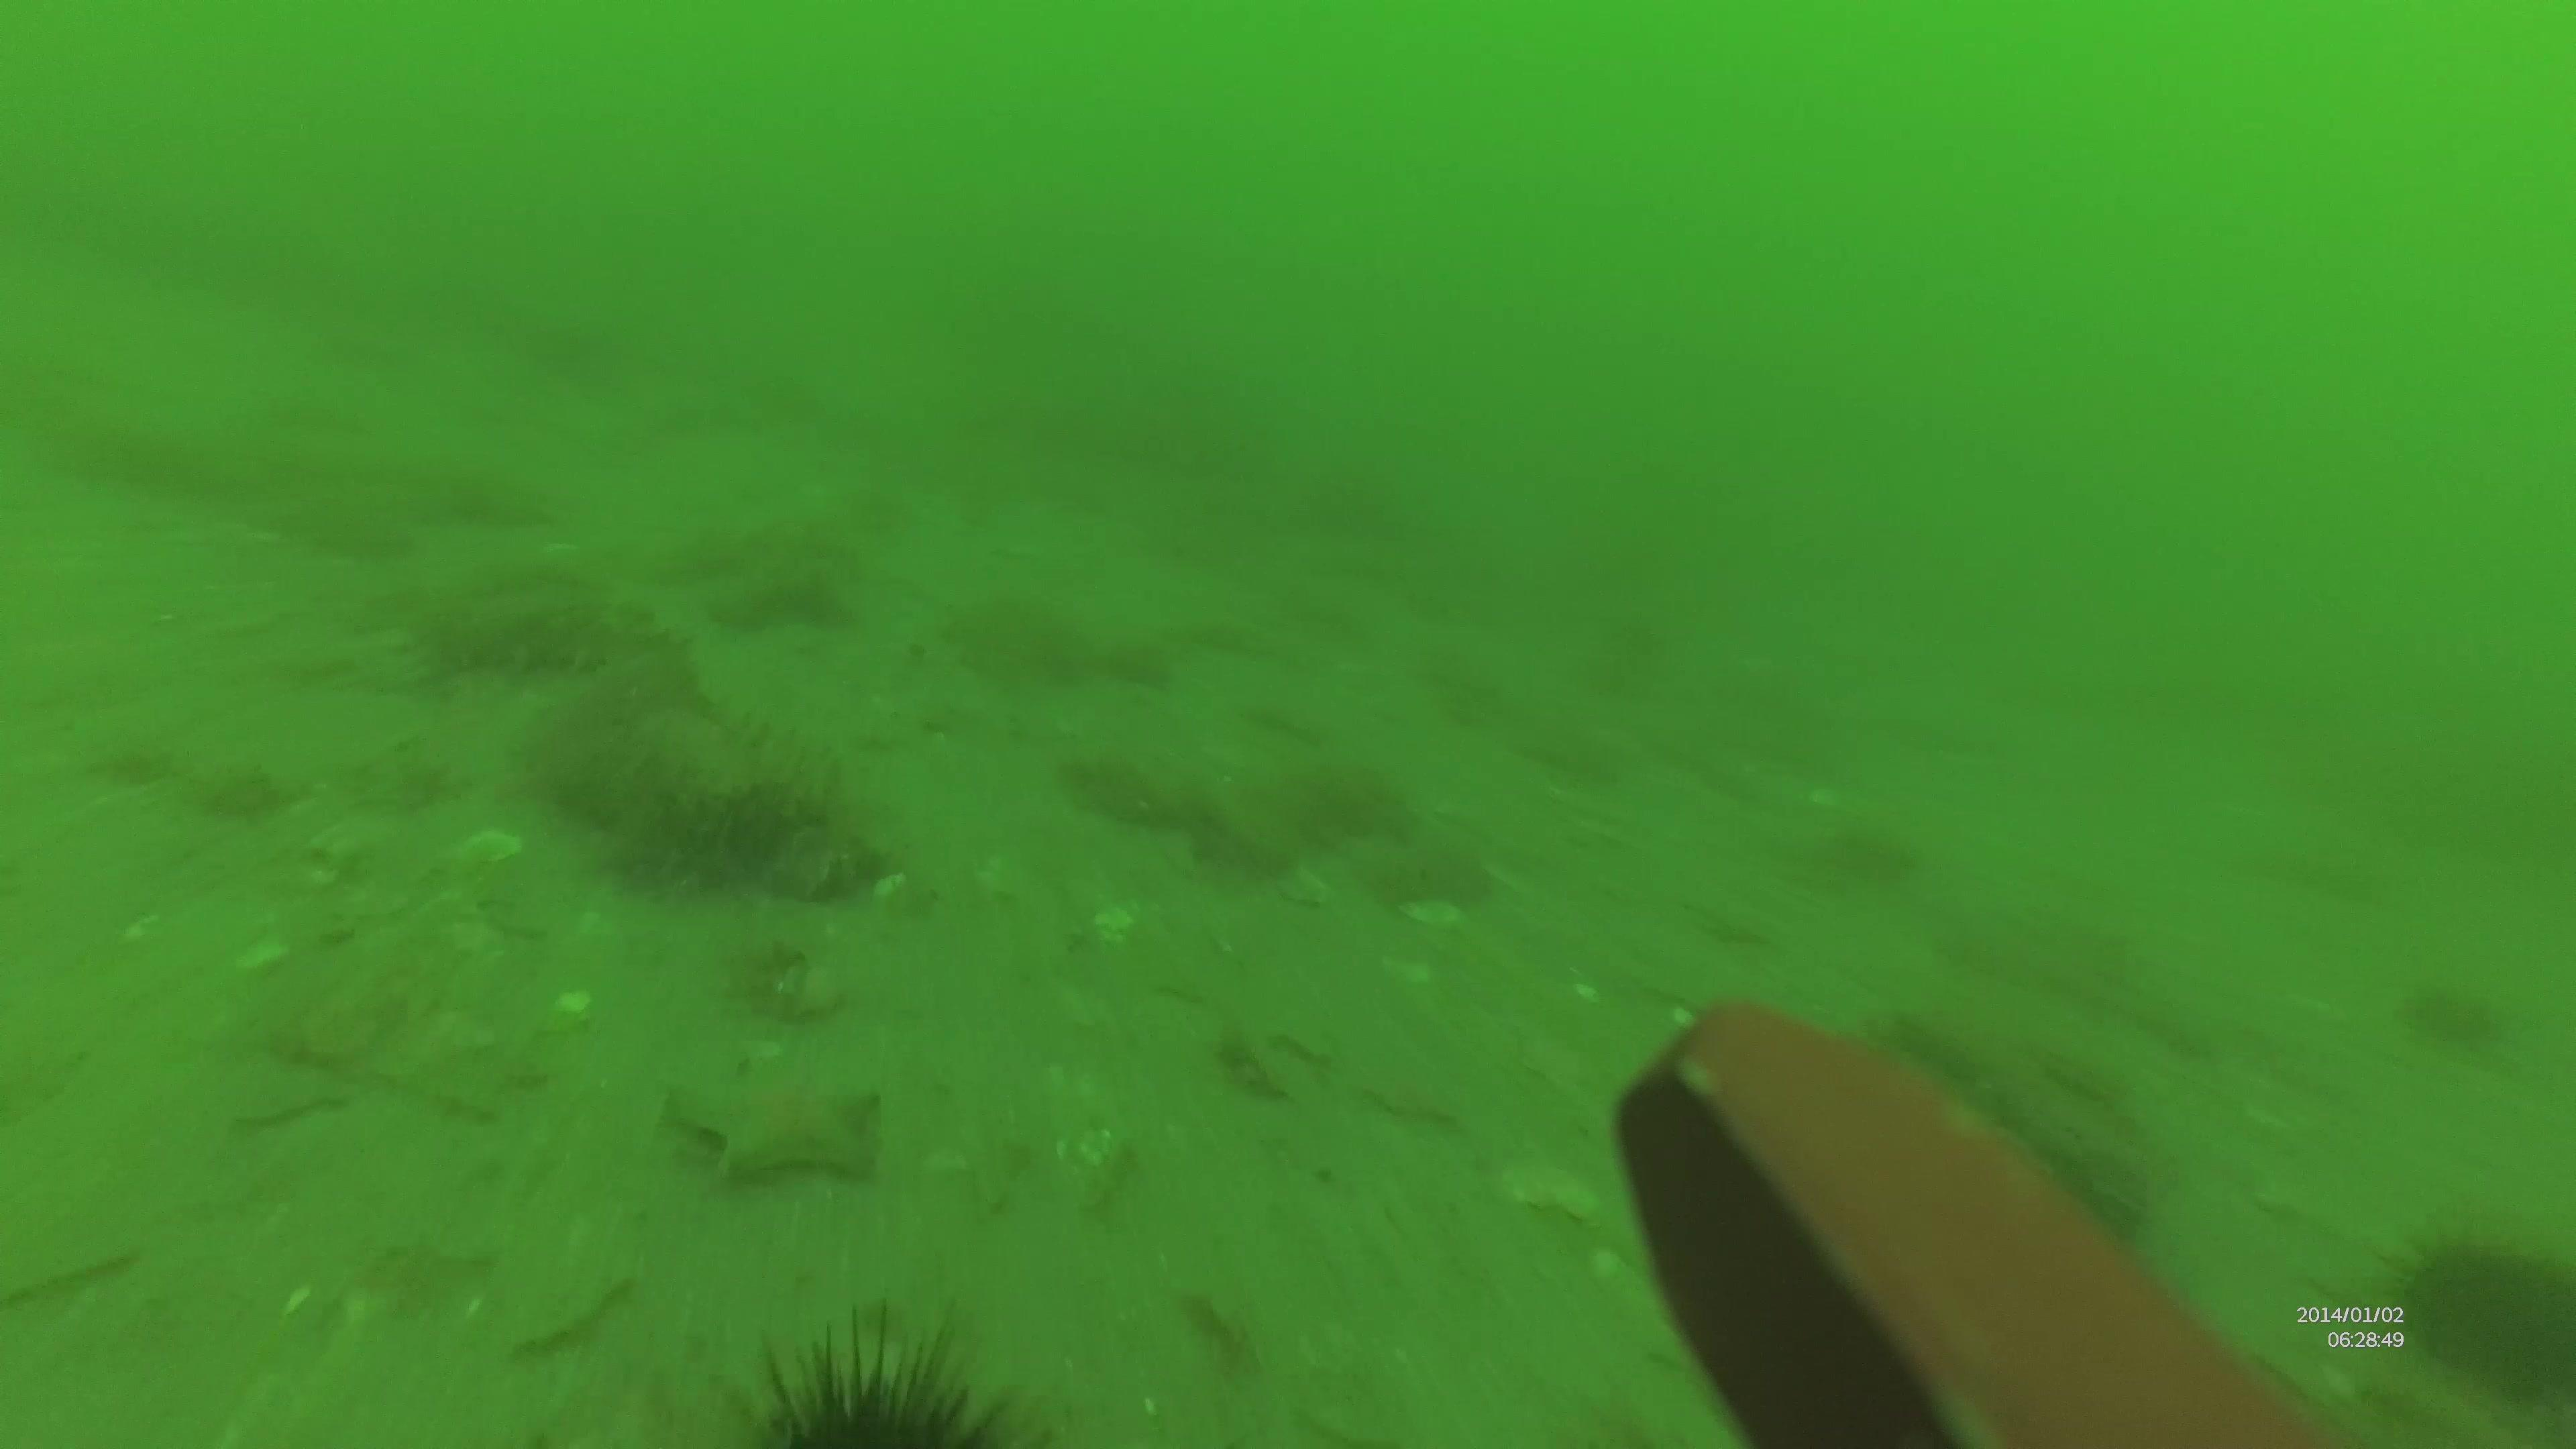echinus: (718, 1320, 1037, 1449), (2373, 1210, 2576, 1373)
starfish: (671, 1047, 885, 1182)
